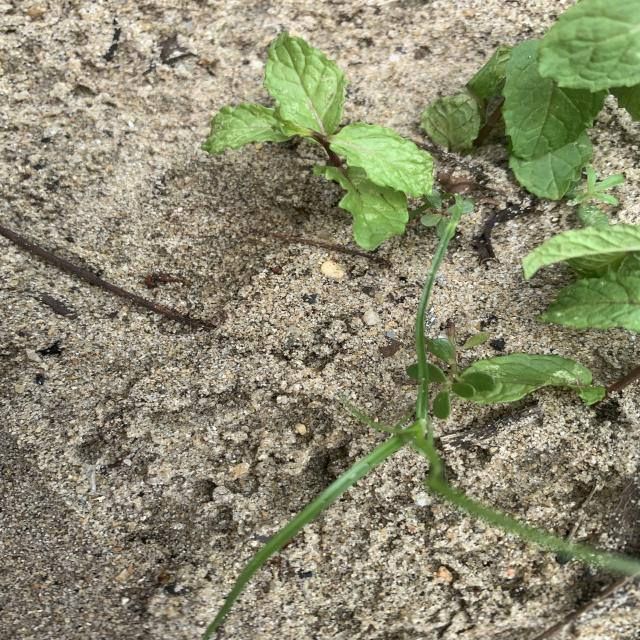crop: (205, 34, 431, 250), (420, 0, 638, 199), (474, 225, 638, 404)
weed: (203, 224, 640, 640), (408, 324, 491, 418), (565, 167, 623, 225), (416, 192, 474, 232)
